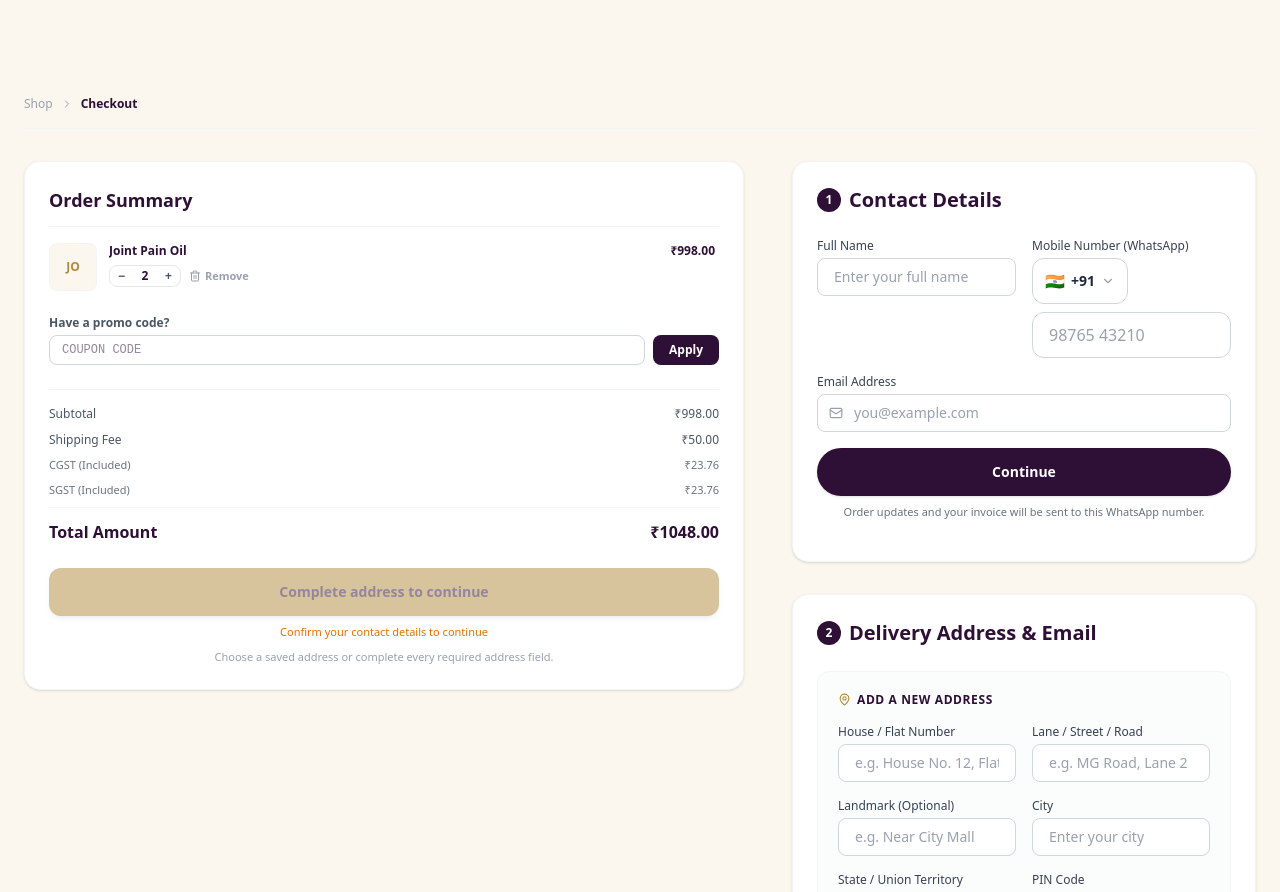
checkout — contact step verifies the number with a WhatsApp OTP › Change number returns to the contact form
Check: the button "Continue" is shown, box [817,448,1231,496]
Type "Atharva Bhargava" into the field with placeholder "Enter your full name".
click(916, 277); type("Atharva Bhargava")  # box [817,258,1016,296]
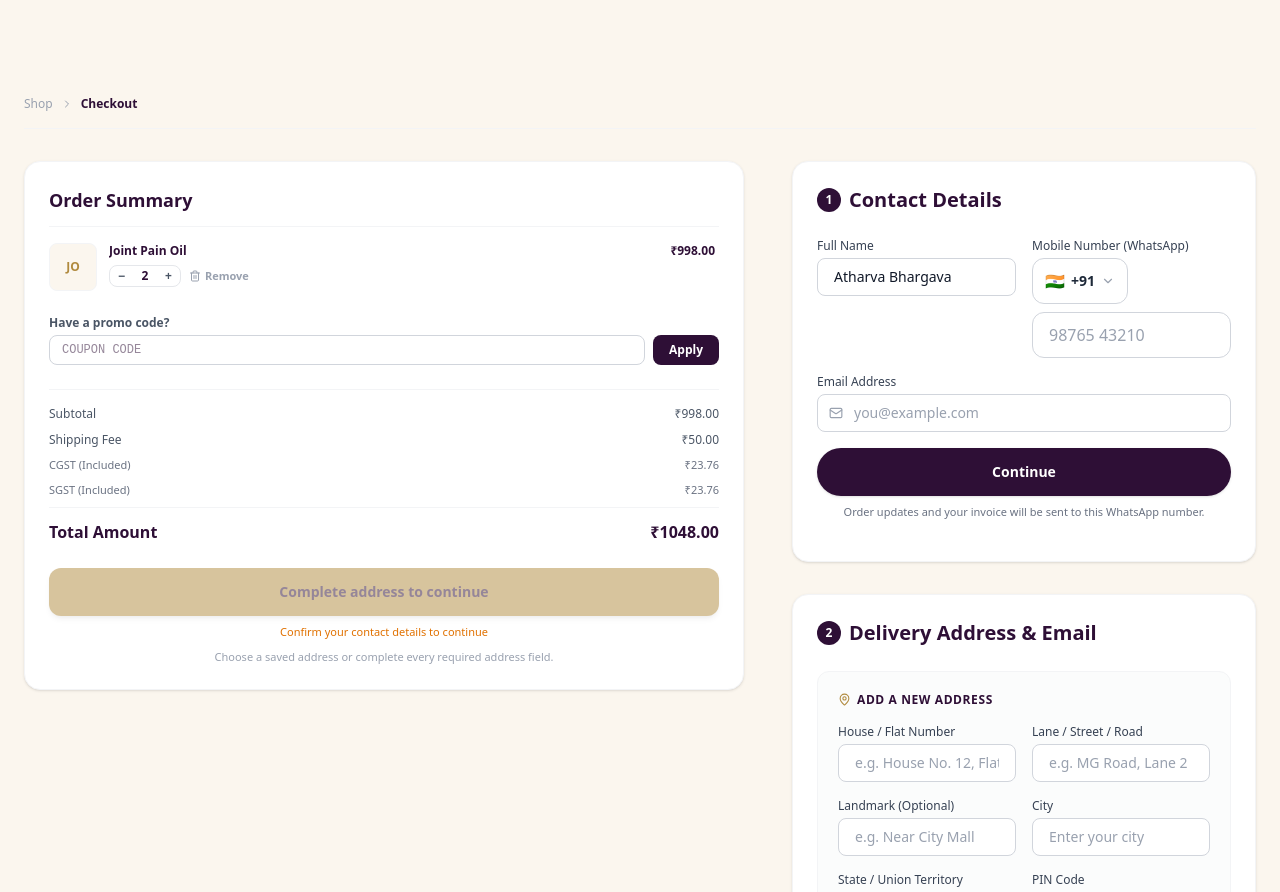
Type "9876543210" into the field with placeholder "98765 43210".
click(1132, 335); type("9876543210")  # box [1032,312,1231,358]
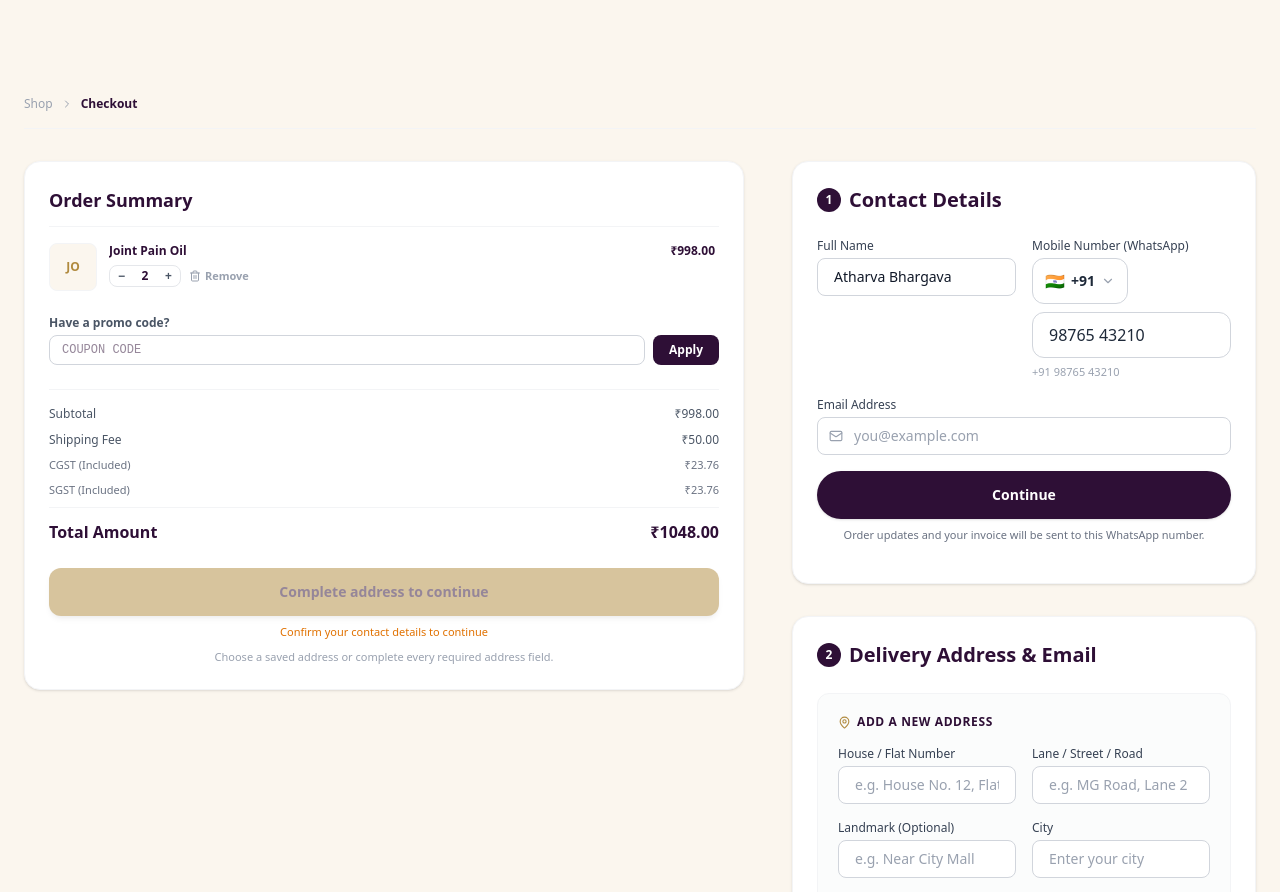
Type "atharva@example.com" into the field with id "checkout-contact-email".
click(1024, 436); type("atharva@example.com")  # box [817,416,1231,454]
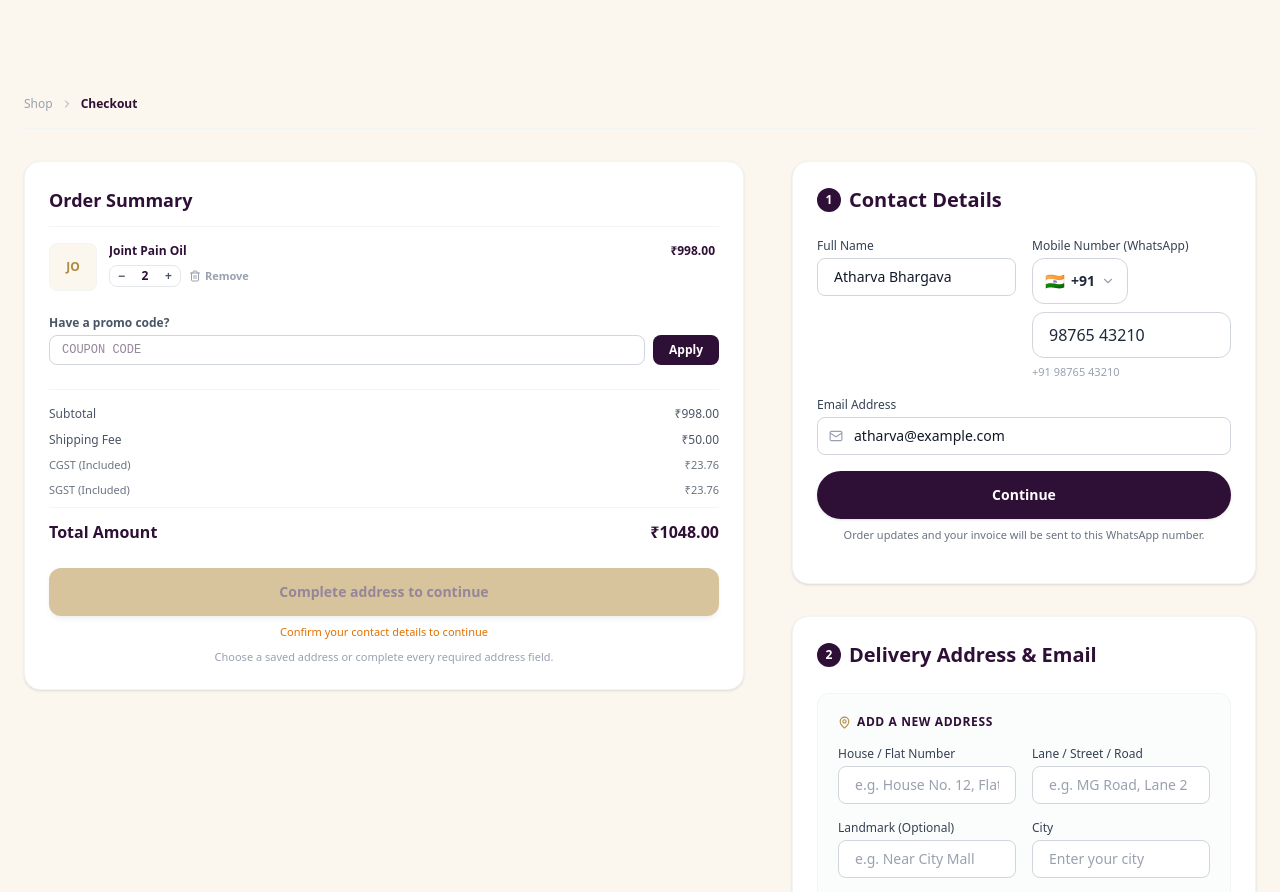
Click the button "Continue".
click(1024, 494)  # box [817,470,1231,518]
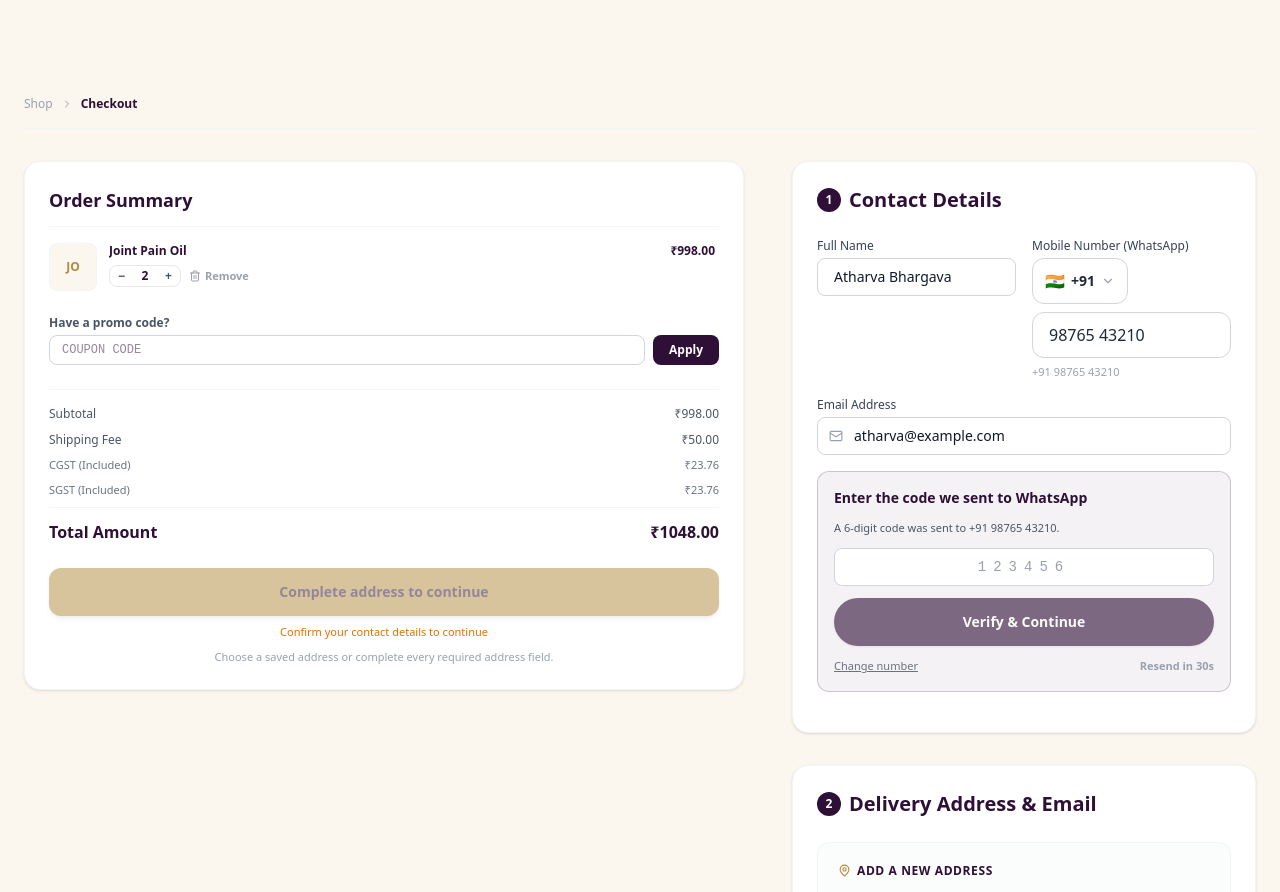
Check: the field with id "checkout-otp" is shown, box [834,548,1214,586]
Click the button "Change number".
click(876, 666)  # box [834,658,918,674]
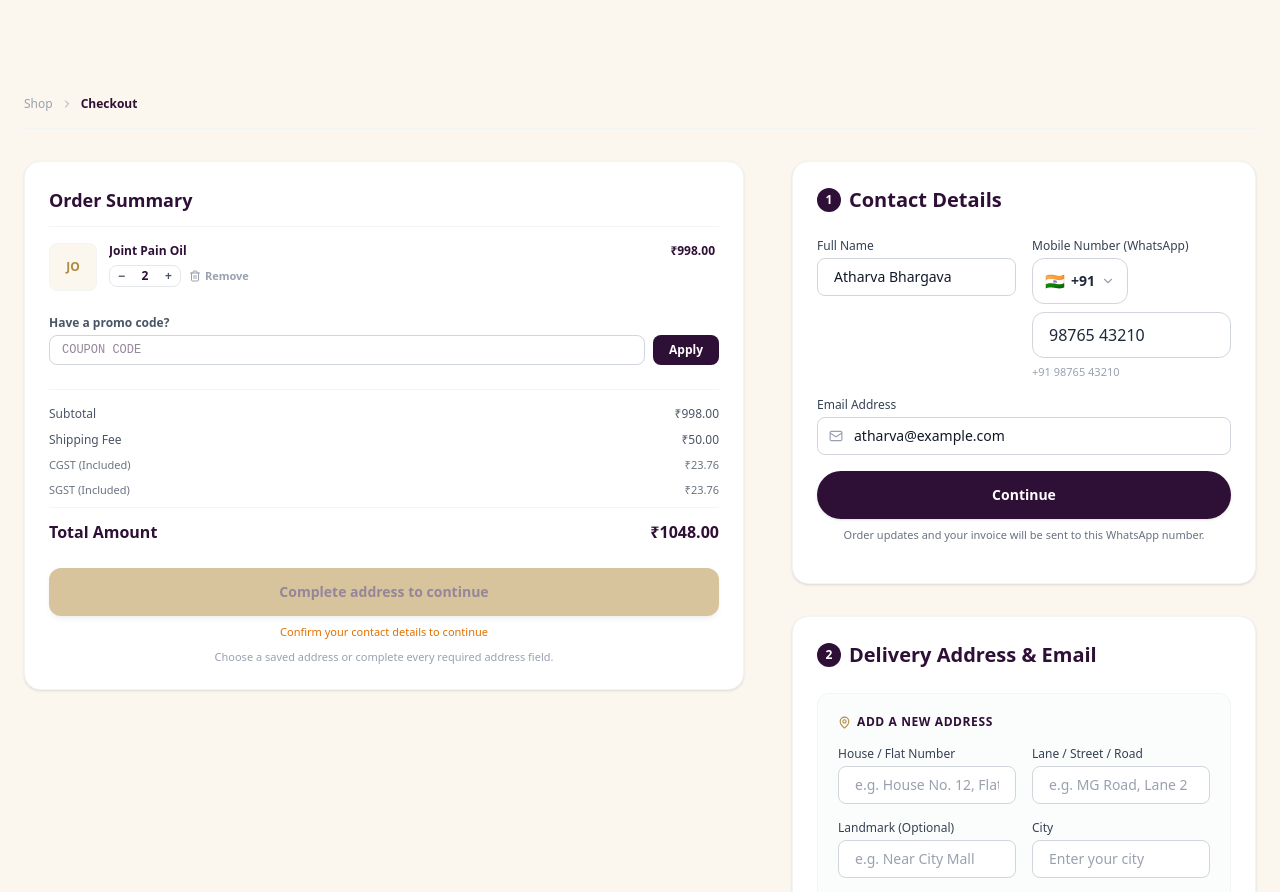
Check: the field with id "checkout-otp" is gone
Check: the button "Continue" is shown, box [817,470,1231,518]
